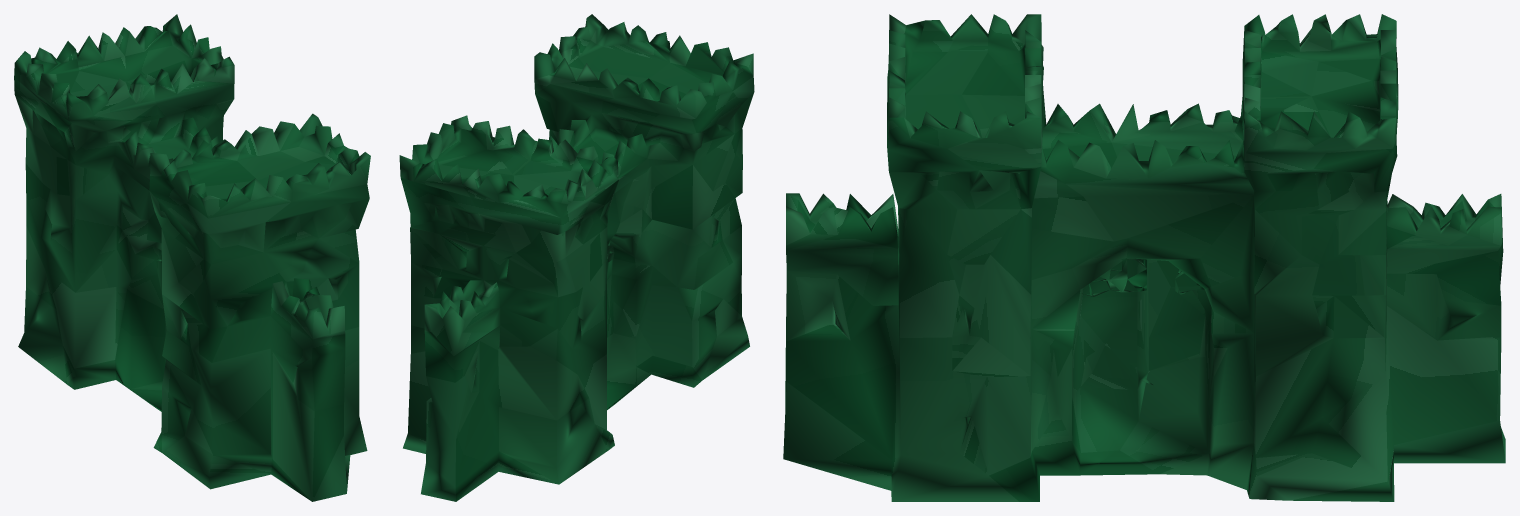
The model's file is castle_gate_diamond_green_lo.glb.
3 views of the same model, side by side, from view 1: azimuth 30°, elevation 25°; view 2: azimuth 150°, elevation 25°; view 3: azimuth 270°, elevation 25° (orthographic). The views are drawn at different scales.
Parts seen in each view (by area): view 1: tripo_node_2871a792-3ea6-48de-9e57-7a4f3ec26cc0; view 2: tripo_node_2871a792-3ea6-48de-9e57-7a4f3ec26cc0; view 3: tripo_node_2871a792-3ea6-48de-9e57-7a4f3ec26cc0.
Part boxes in pixels (bbox=[...]): tripo_node_2871a792-3ea6-48de-9e57-7a4f3ec26cc0: bbox=[14, 14, 370, 501]; tripo_node_2871a792-3ea6-48de-9e57-7a4f3ec26cc0: bbox=[399, 14, 754, 501]; tripo_node_2871a792-3ea6-48de-9e57-7a4f3ec26cc0: bbox=[783, 14, 1505, 501].
Bounding box in the file's own units: 0.339 × 0.5782 × 0.9809.
Materials: 1 (1 with a texture image).
